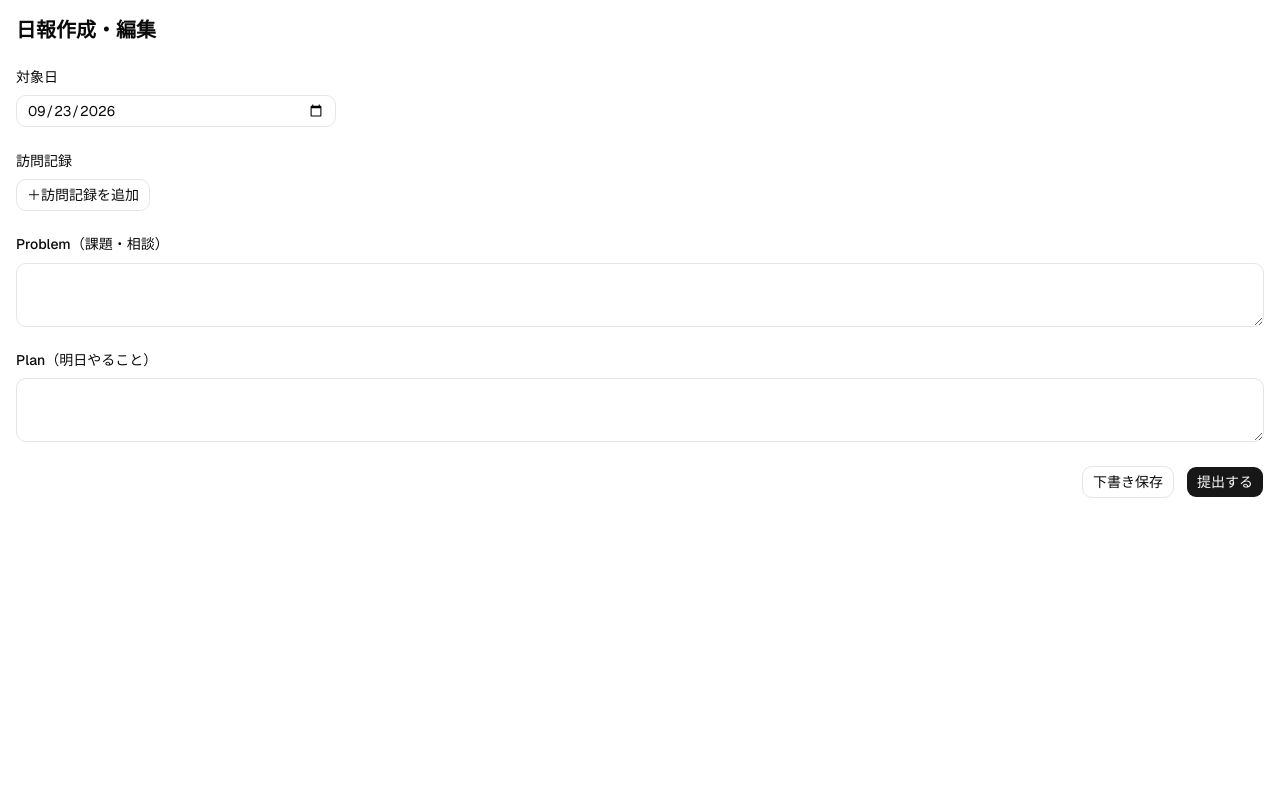
Test: ReportForm (create mode) › removes a row when its delete button is clicked (TC-SCR02-02)
The width and height of the screenshot is (1280, 800).
Click the button "＋訪問記録を追加".
click(83, 195)  # box x1=16 y1=179 x2=150 y2=211
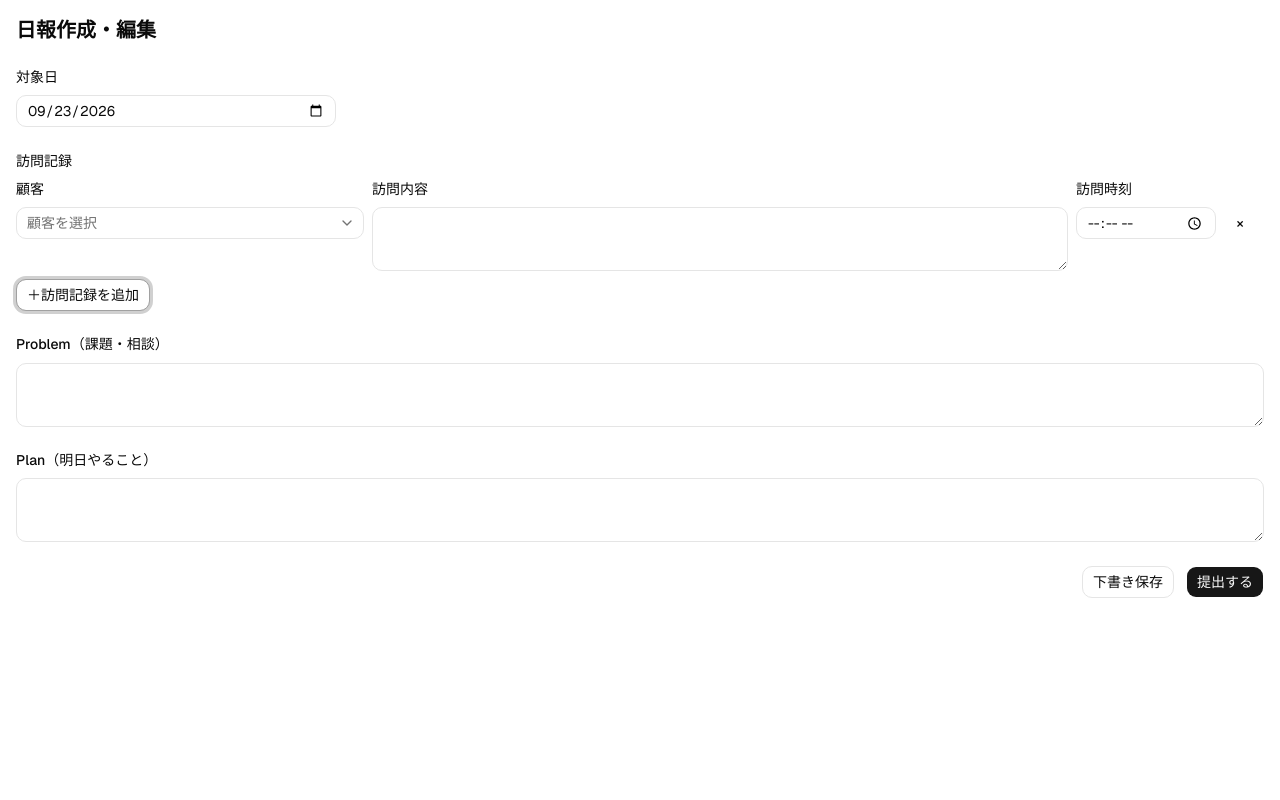
Click the button "＋訪問記録を追加".
click(83, 295)  # box x1=16 y1=279 x2=150 y2=311
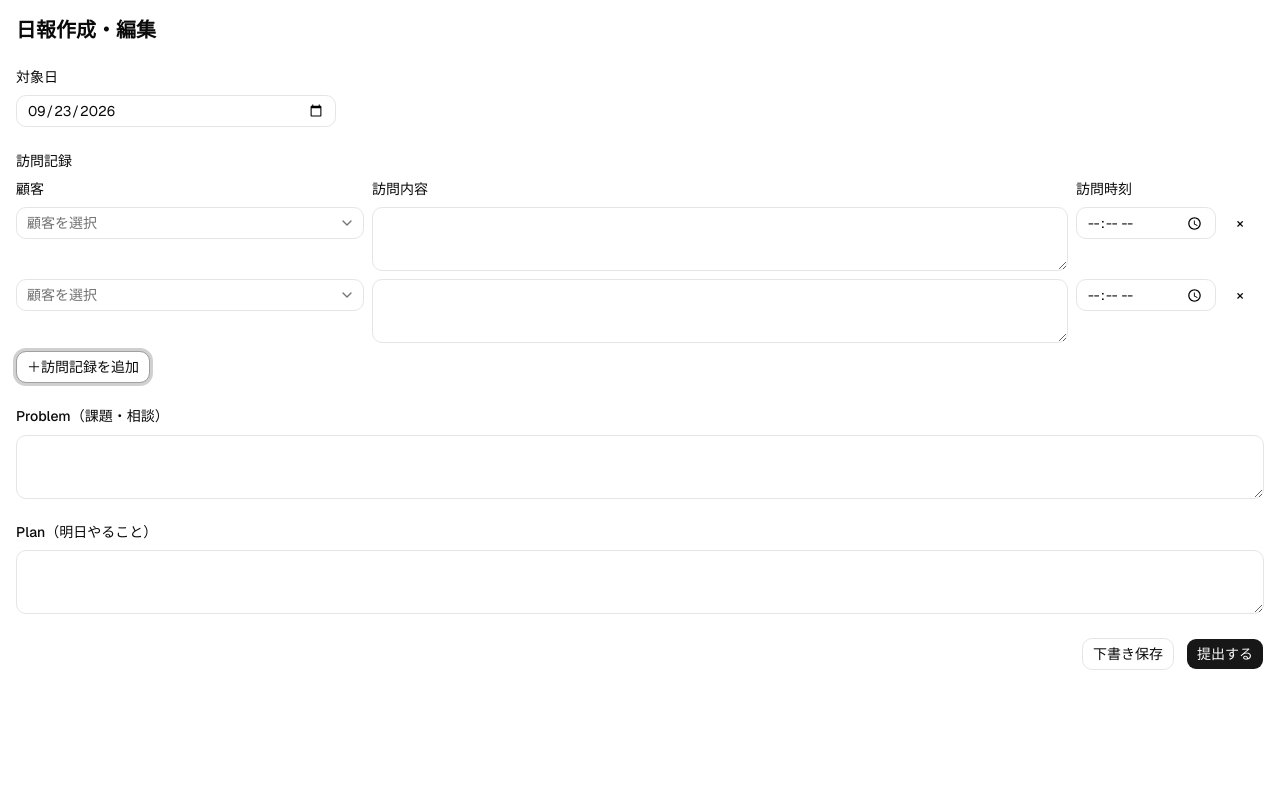
Click the 1st button "×".
click(1240, 223)  # box x1=1224 y1=207 x2=1256 y2=239
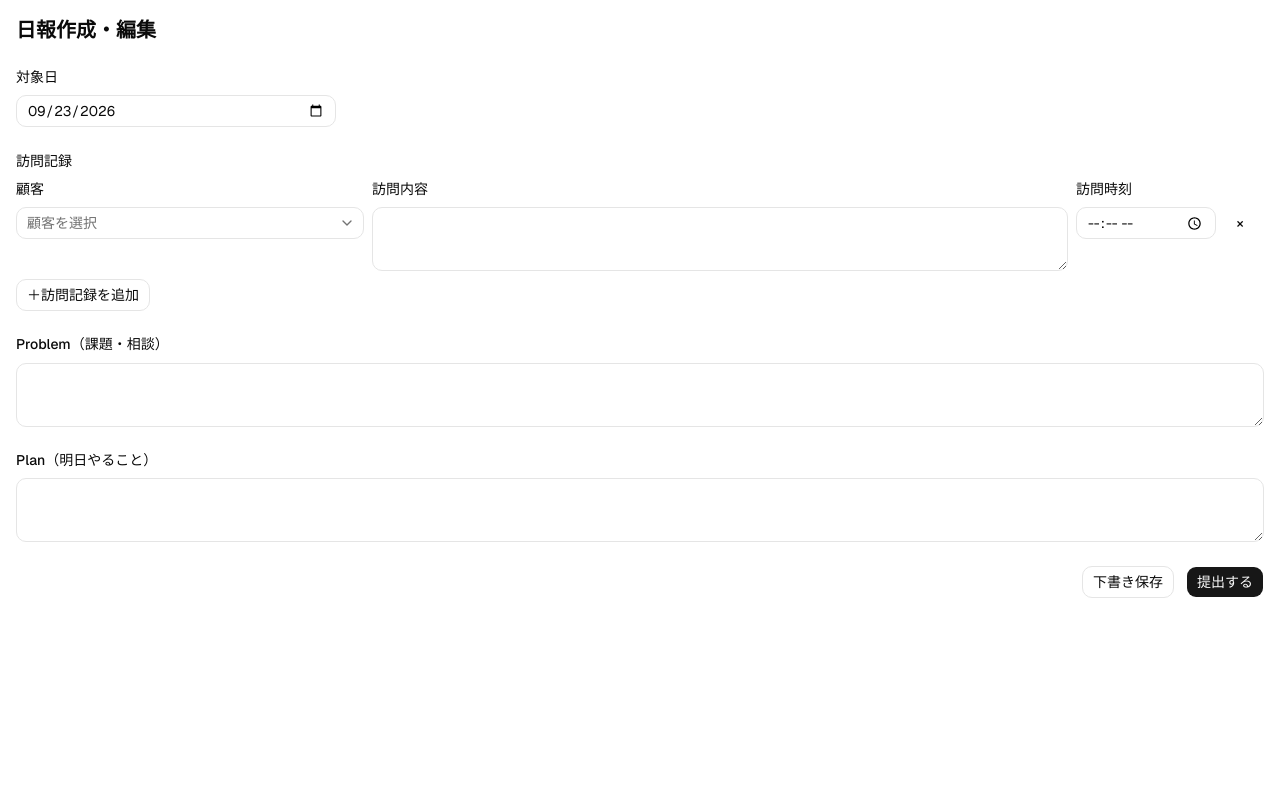
Expected: the number of dropdowns labelled "顧客を選択" is 1, x1=16 y1=207 x2=364 y2=239
